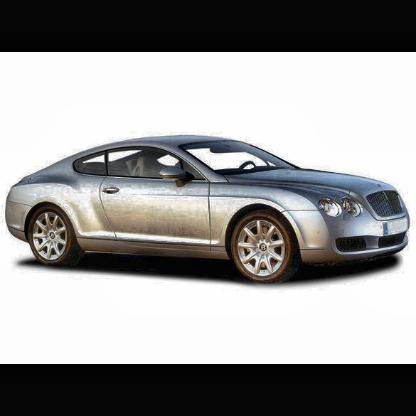Bentley Continental GT Coupe 2007: (4, 135, 412, 290)
